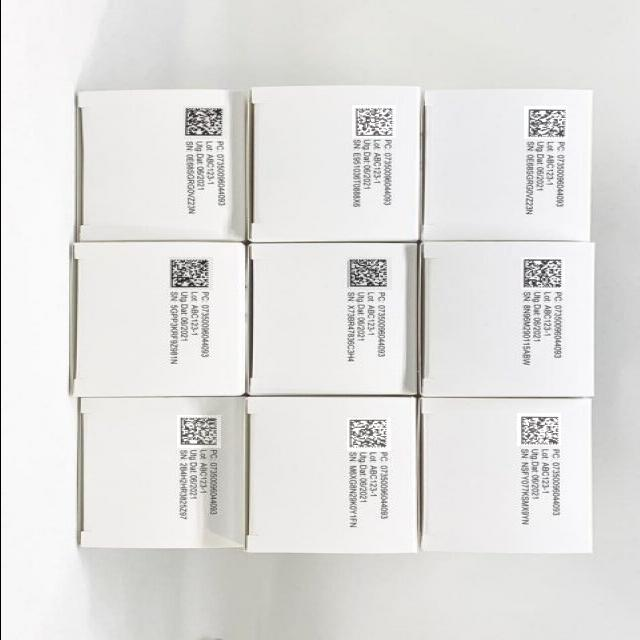Data-Matrix: (523, 106, 567, 139), (520, 257, 564, 290), (516, 413, 560, 446), (346, 418, 390, 451), (347, 257, 391, 290), (351, 105, 395, 138), (182, 106, 226, 139), (168, 257, 212, 290), (176, 415, 220, 448)
